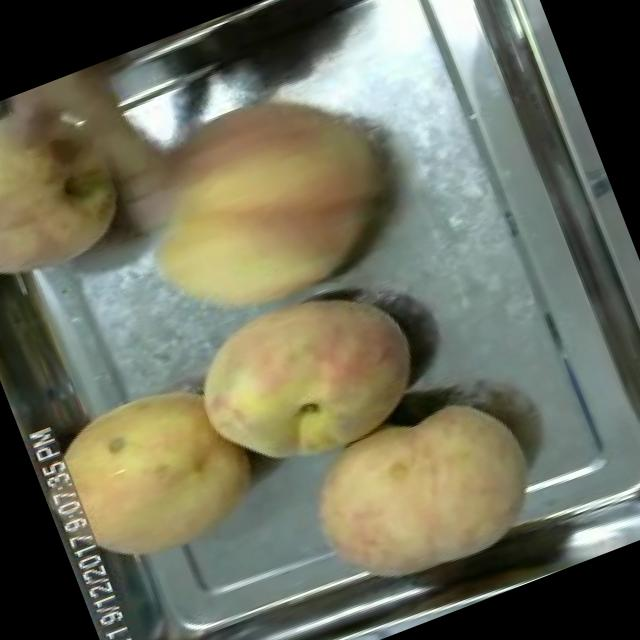Fruit: (94, 40, 437, 358), (282, 373, 562, 619), (170, 254, 445, 493), (28, 357, 282, 592), (0, 63, 162, 309)
